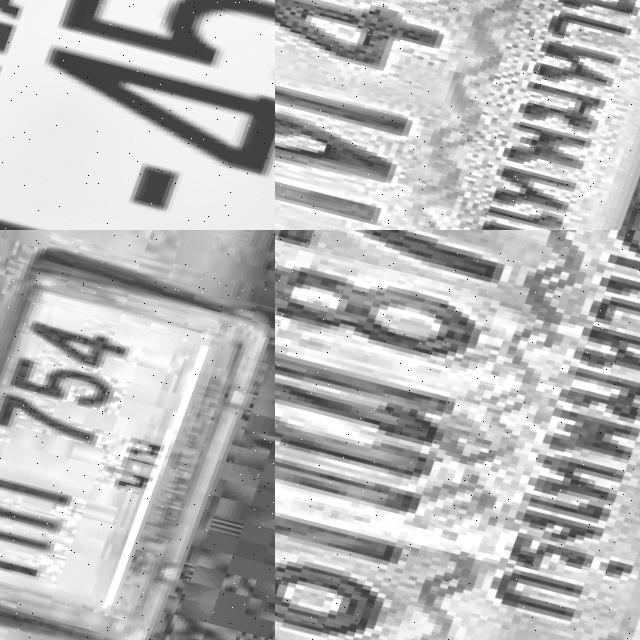license-plate: (275, 230, 640, 640), (0, 259, 274, 640), (275, 0, 640, 230), (0, 0, 275, 230)
